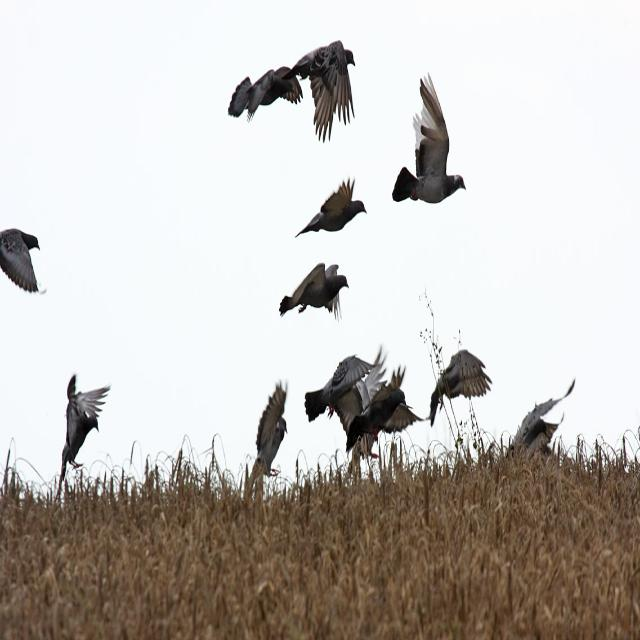bird: (302, 351, 425, 470), (288, 27, 362, 142), (399, 78, 467, 202), (223, 46, 304, 143), (59, 377, 112, 478), (424, 349, 494, 425), (277, 262, 353, 324), (296, 176, 366, 240), (251, 383, 288, 500), (0, 232, 46, 295)
